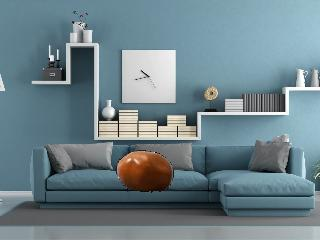potato: (112, 146, 177, 195)
